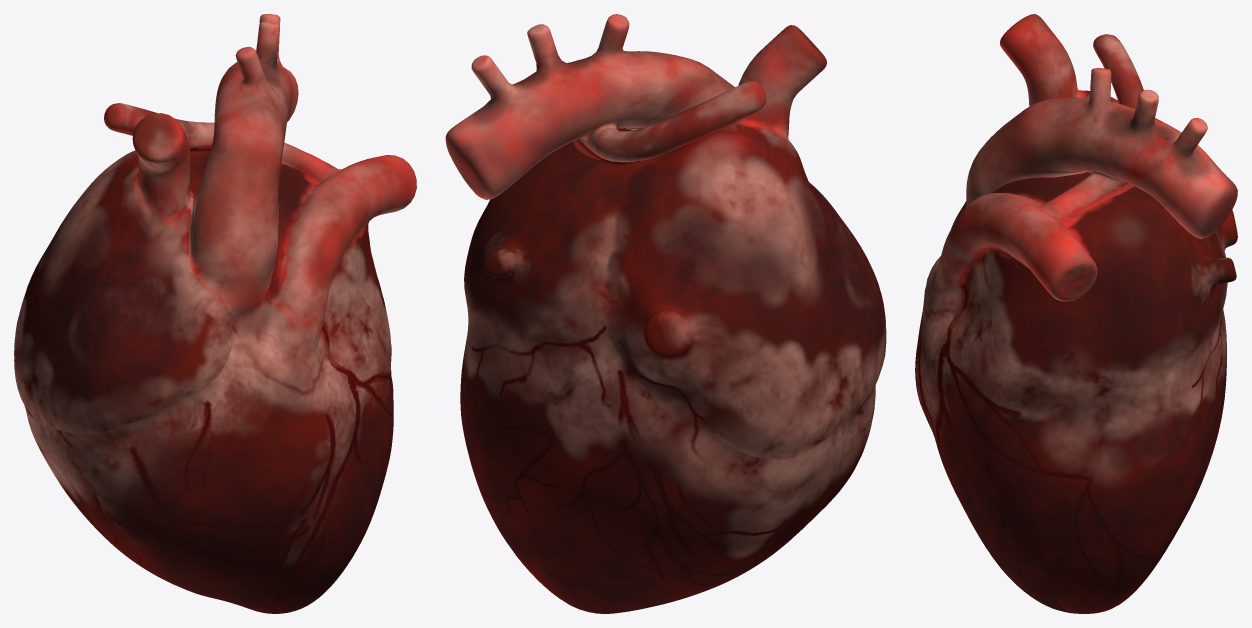
Rendered from Heart.glb.
3 views of the same model, side by side, from view 1: azimuth 30°, elevation 25°; view 2: azimuth 150°, elevation 25°; view 3: azimuth 270°, elevation 25° (orthographic). The views are drawn at different scales.
Visible parts, largest first — view 1: hart:ZBrush_defualt_group; view 2: hart:ZBrush_defualt_group; view 3: hart:ZBrush_defualt_group.
Boxes of the visible parts, left/top/right/bottom form: hart:ZBrush_defualt_group: left=14, top=14, right=416, bottom=613; hart:ZBrush_defualt_group: left=445, top=14, right=886, bottom=613; hart:ZBrush_defualt_group: left=915, top=14, right=1237, bottom=613.
Bounding box in the file's own units: 6.22 × 9.19 × 5.05.
Materials: 2 (1 with a texture image).
